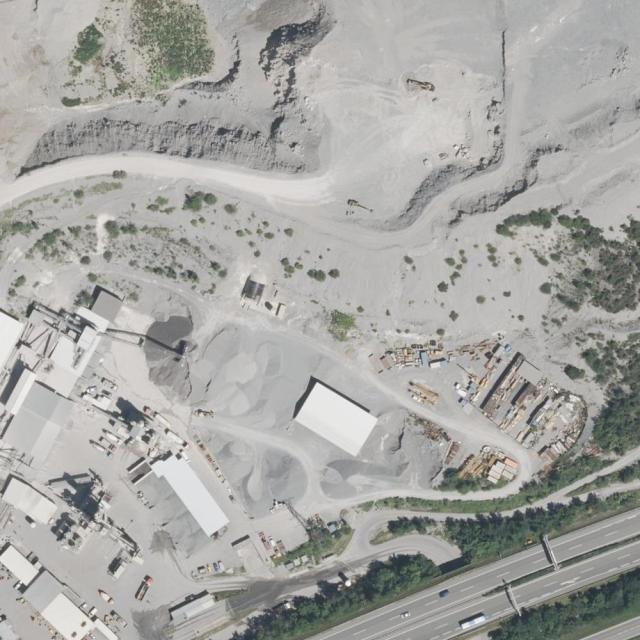building: (151, 447, 233, 539), (288, 376, 380, 457), (0, 380, 76, 469), (165, 585, 217, 627), (86, 286, 125, 323)
dryland: (77, 156, 299, 316), (332, 212, 558, 361), (185, 317, 392, 441), (211, 210, 388, 351), (0, 180, 119, 316), (292, 235, 446, 323), (98, 331, 176, 429)
greenland: (476, 437, 613, 525), (359, 496, 520, 514), (373, 510, 440, 543), (457, 541, 503, 562)
metalled_road: (273, 504, 357, 592)
unmetalled_road: (353, 366, 538, 511), (292, 189, 472, 254), (232, 413, 325, 481), (356, 534, 460, 567), (282, 466, 339, 523), (312, 496, 357, 524)
